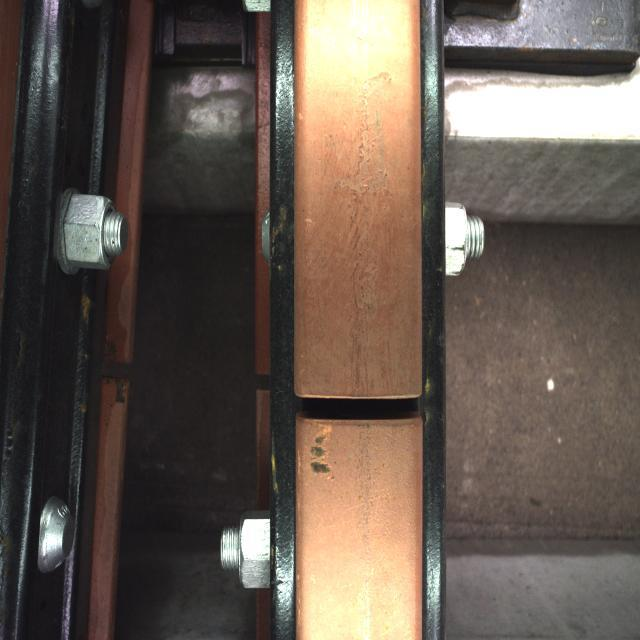spalling: (270, 348, 459, 458)
